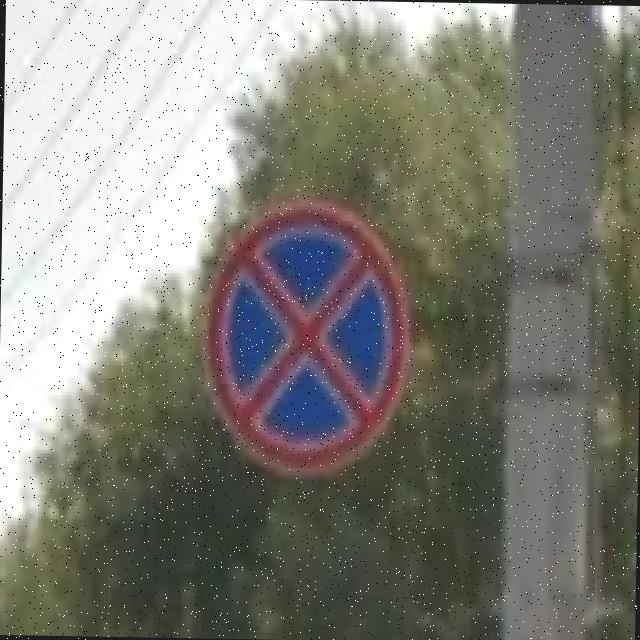Zakaz zatrzymywania sie: (201, 198, 410, 477)
